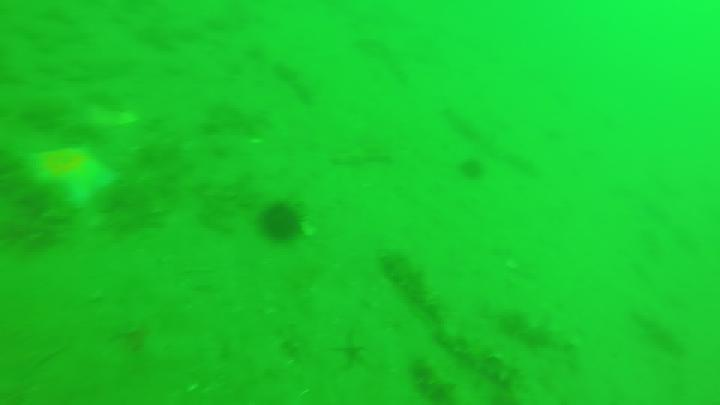echinus: (260, 203, 301, 245)
holothurian: (437, 325, 528, 393), (387, 250, 449, 319), (419, 361, 463, 405)
starfish: (26, 146, 124, 205)
